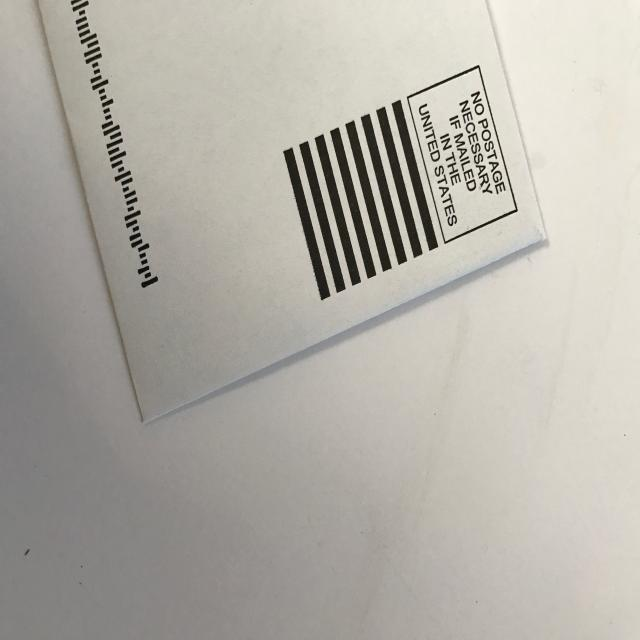paper: (38, 1, 548, 424)
